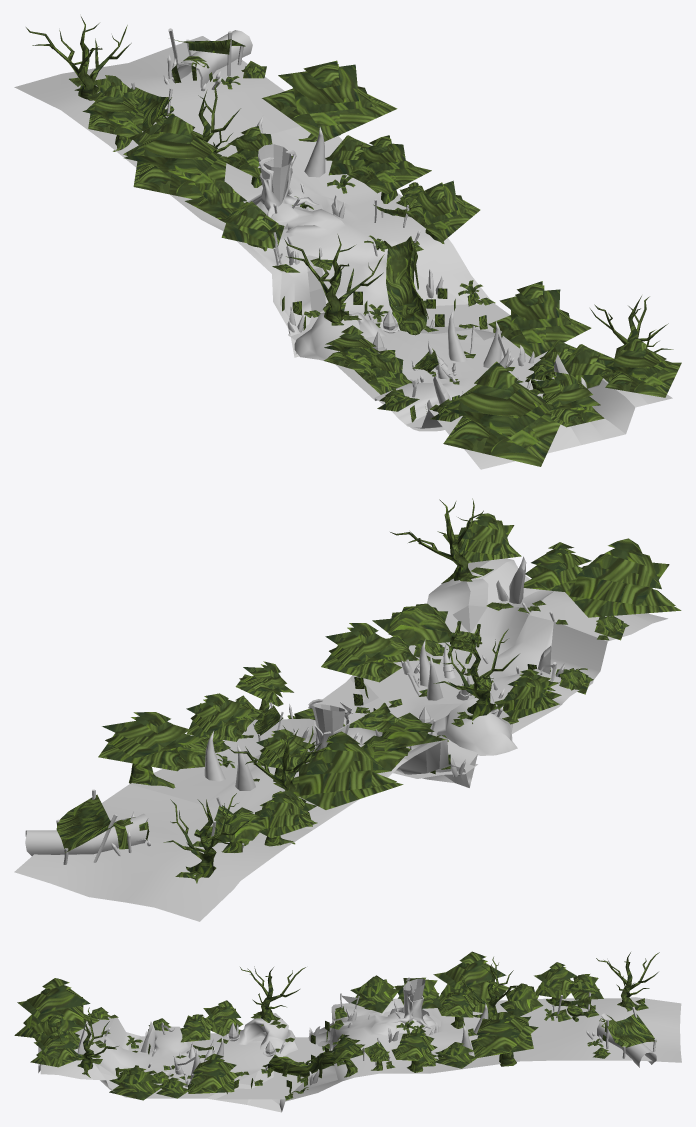
The picture shows the model from 3 angles, top to bottom: view 1: azimuth 30°, elevation 25°; view 2: azimuth 150°, elevation 25°; view 3: azimuth 270°, elevation 25°; orthographic projection. The views are drawn at different scales.
Visible parts, largest first — view 1: map_1_grass_map_1_polySurface1394_map_1_polySurface1500_map_, map_1_polySurface1156_map_1_terrain_map_1_polySurface1_group, map_1_polySurface1497_map_1_polySurface1502_map_1_polySurfac, map_1_grass_map_1_polySurface1394_map_1_polySurface1499_map_, map_1_pCylinder84_map_1_polySurface1_group1, map_1_grass_map_1_polySurface1394_map_1_polySurface1498_map_; view 2: map_1_grass_map_1_polySurface1394_map_1_polySurface1500_map_, map_1_polySurface1156_map_1_terrain_map_1_polySurface1_group, map_1_polySurface1497_map_1_polySurface1502_map_1_polySurfac, map_1_grass_map_1_polySurface1394_map_1_polySurface1499_map_, map_1_pCylinder84_map_1_polySurface1_group1; view 3: map_1_grass_map_1_polySurface1394_map_1_polySurface1500_map_, map_1_polySurface1156_map_1_terrain_map_1_polySurface1_group, map_1_polySurface1497_map_1_polySurface1502_map_1_polySurfac, map_1_grass_map_1_polySurface1394_map_1_polySurface1499_map_, map_1_pCylinder84_map_1_polySurface1_group1.
Part boxes in pixels (bbox=[...]): map_1_grass_map_1_polySurface1394_map_1_polySurface1500_map_: bbox=[26, 16, 681, 466]; map_1_polySurface1156_map_1_terrain_map_1_polySurface1_group: bbox=[14, 36, 672, 469]; map_1_polySurface1497_map_1_polySurface1502_map_1_polySurfac: bbox=[131, 28, 586, 409]; map_1_grass_map_1_polySurface1394_map_1_polySurface1499_map_: bbox=[288, 303, 509, 431]; map_1_pCylinder84_map_1_polySurface1_group1: bbox=[258, 144, 292, 204]; map_1_grass_map_1_polySurface1394_map_1_polySurface1498_map_: bbox=[299, 255, 326, 312]; map_1_grass_map_1_polySurface1394_map_1_polySurface1500_map_: bbox=[56, 498, 681, 883]; map_1_polySurface1156_map_1_terrain_map_1_polySurface1_group: bbox=[14, 558, 667, 921]; map_1_polySurface1497_map_1_polySurface1502_map_1_polySurfac: bbox=[25, 556, 564, 864]; map_1_grass_map_1_polySurface1394_map_1_polySurface1499_map_: bbox=[316, 667, 593, 778]; map_1_pCylinder84_map_1_polySurface1_group1: bbox=[311, 704, 345, 735]; map_1_grass_map_1_polySurface1394_map_1_polySurface1500_map_: bbox=[14, 951, 659, 1100]; map_1_polySurface1156_map_1_terrain_map_1_polySurface1_group: bbox=[38, 997, 681, 1112]; map_1_polySurface1497_map_1_polySurface1502_map_1_polySurfac: bbox=[77, 977, 656, 1086]; map_1_grass_map_1_polySurface1394_map_1_polySurface1499_map_: bbox=[128, 1036, 332, 1099]; map_1_pCylinder84_map_1_polySurface1_group1: bbox=[403, 978, 425, 1013].
Size of the model in its own units: 25.18 by 13.92 by 77.4.
